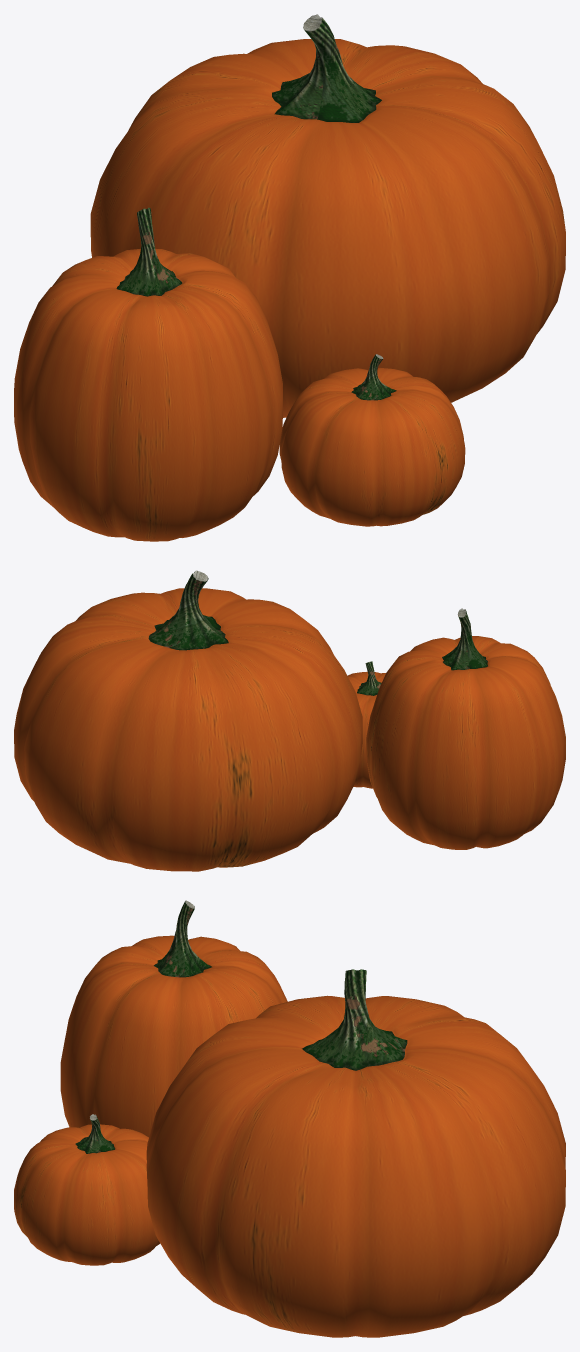
3 renders of one model, top to bottom at view 1: azimuth 30°, elevation 25°; view 2: azimuth 150°, elevation 25°; view 3: azimuth 270°, elevation 25°, orthographic. The views are drawn at different scales.
Visible parts, largest first — view 1: pumpkin_lp, pumpkin_lp1, pumpkin_lp2; view 2: pumpkin_lp, pumpkin_lp1, pumpkin_lp2; view 3: pumpkin_lp, pumpkin_lp1, pumpkin_lp2.
Boxes of the visible parts, bbox=[...] form: pumpkin_lp: bbox=[90, 14, 565, 417]; pumpkin_lp1: bbox=[14, 207, 282, 541]; pumpkin_lp2: bbox=[279, 354, 465, 526]; pumpkin_lp: bbox=[14, 570, 362, 871]; pumpkin_lp1: bbox=[366, 608, 565, 849]; pumpkin_lp2: bbox=[347, 661, 385, 788]; pumpkin_lp: bbox=[146, 969, 565, 1337]; pumpkin_lp1: bbox=[60, 900, 287, 1137]; pumpkin_lp2: bbox=[14, 1114, 160, 1265].
Bounding box in the file's own units: 10.25 × 5.91 × 9.18.
Materials: 1 (1 with a texture image).
